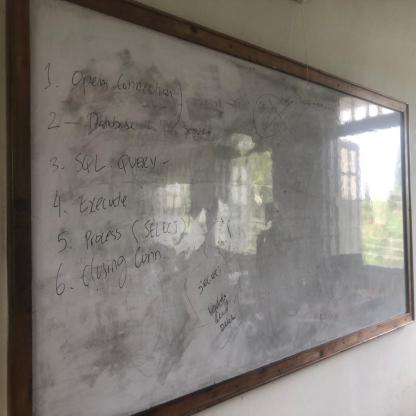Handwritten text: (63, 53, 178, 104), (71, 144, 177, 183), (80, 215, 196, 246), (83, 249, 169, 285), (71, 186, 147, 214), (89, 105, 140, 135)
